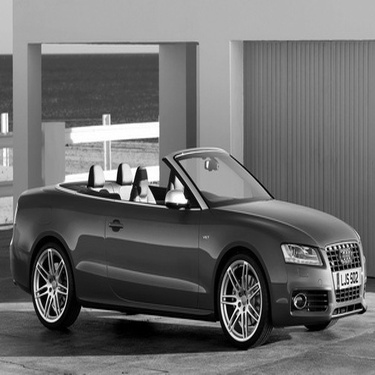car: (8, 143, 369, 351)
